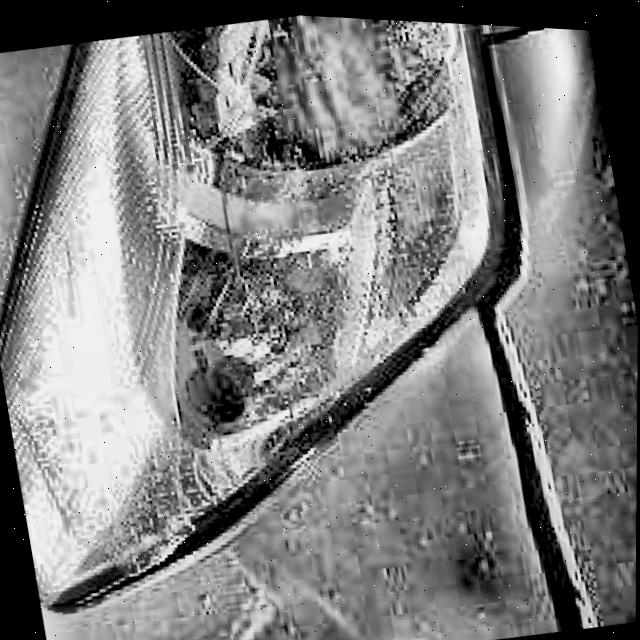head_lamp: (118, 190, 390, 469), (144, 8, 473, 232)
